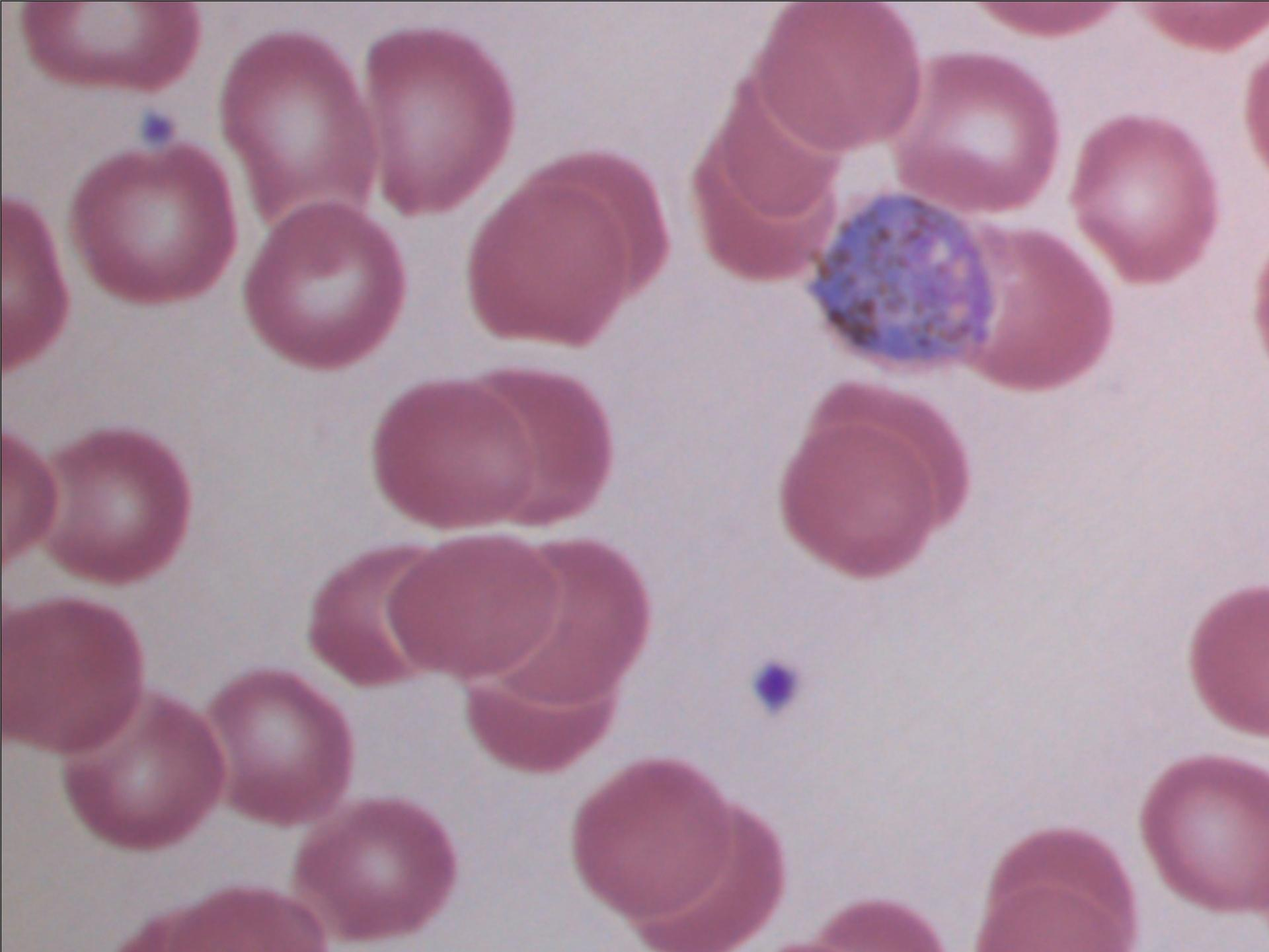Infected: (803, 187, 991, 374)
Uninfected: (221, 36, 382, 220), (894, 50, 1058, 215), (471, 182, 629, 348), (73, 144, 234, 306), (573, 762, 735, 923), (370, 30, 508, 216), (810, 385, 970, 545), (777, 421, 939, 579), (250, 205, 403, 368), (758, 0, 921, 153), (392, 534, 560, 681), (69, 696, 222, 850), (1072, 121, 1215, 283), (291, 800, 455, 940), (370, 380, 529, 524), (972, 227, 1112, 390), (509, 542, 650, 702), (46, 431, 189, 588), (471, 369, 612, 525), (212, 673, 353, 828), (0, 603, 143, 751), (525, 154, 673, 291), (1145, 758, 1269, 912), (701, 132, 827, 282), (642, 805, 777, 945), (309, 545, 438, 685), (993, 828, 1138, 952), (463, 656, 608, 773), (20, 0, 198, 94), (724, 83, 838, 217), (1191, 585, 1269, 738)
